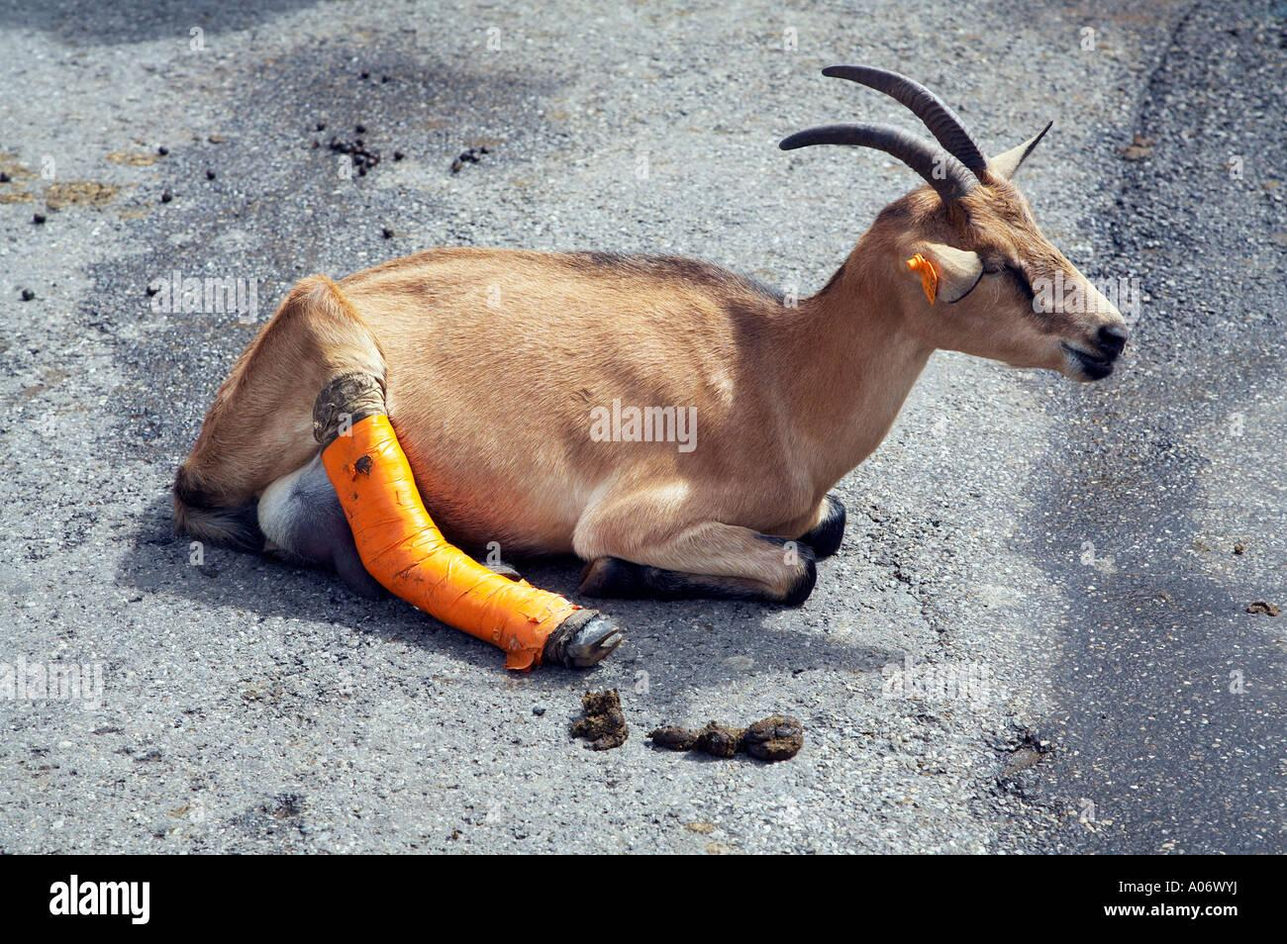fracture: (294, 357, 645, 690)
